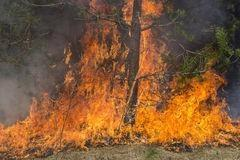fire: (0, 80, 237, 145), (79, 0, 164, 78)
